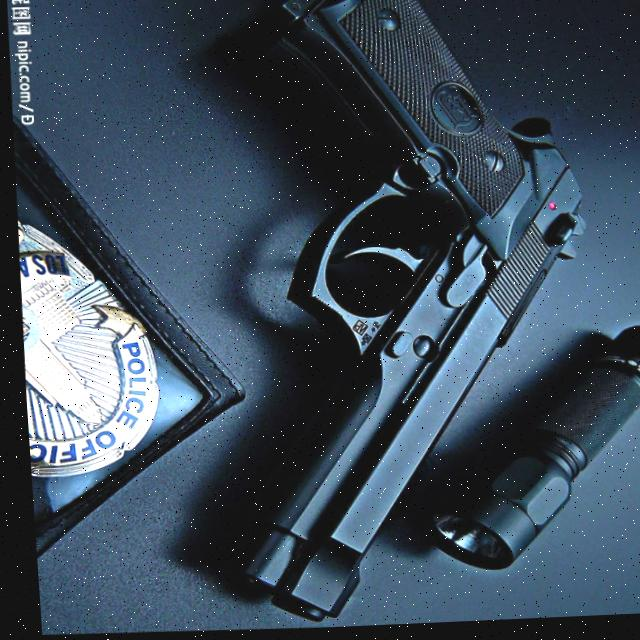pistol: (164, 0, 611, 634)
